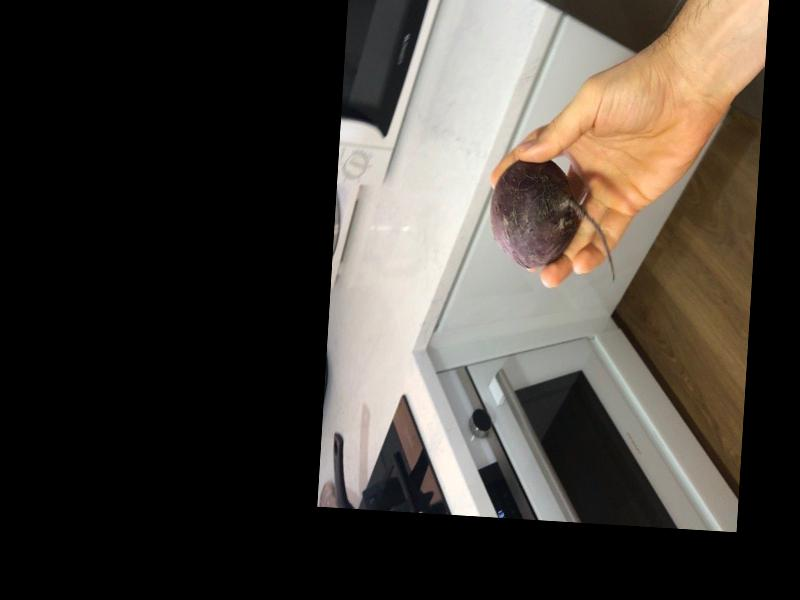Beet: (486, 157, 622, 284)
